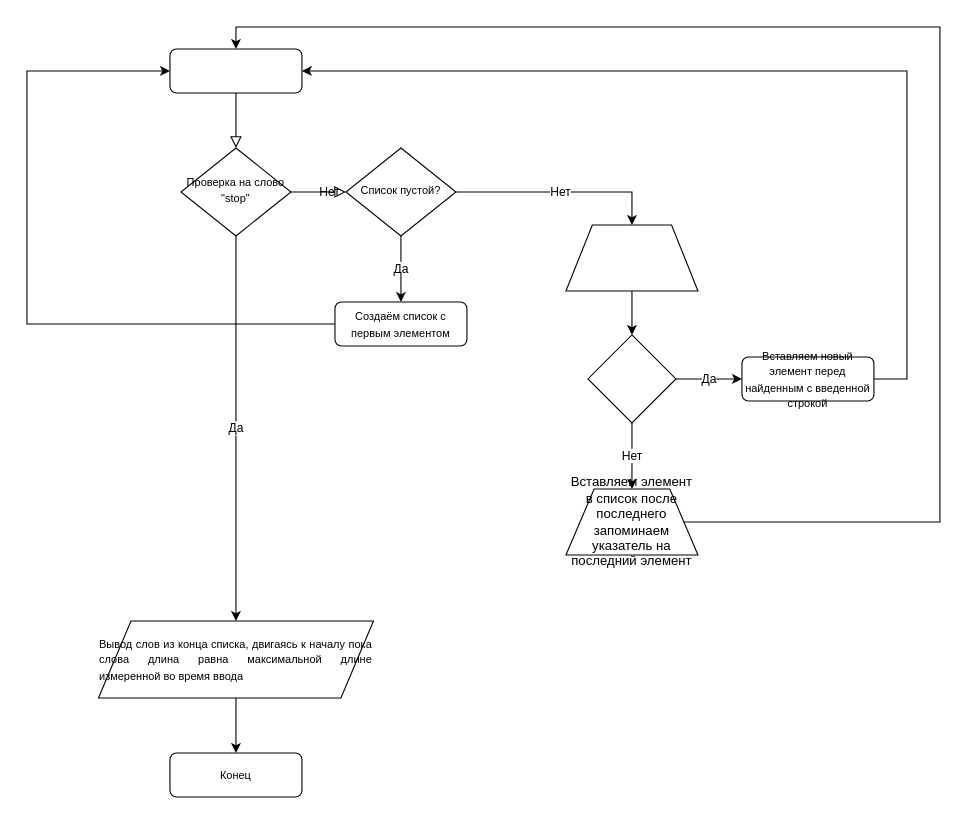
Some shapes in this 968 by 816 pixel diagram are drawn without their labels. The shapes that lost their labels are listed below. From the top down, each one's box as (x1, y1, x2, y2) in pixels, then its label:
(169, 48, 302, 93): Ввод строки
(565, 224, 698, 291): Перебираем элементы списка от первого, ищем строку длиннее введенной
(587, 334, 676, 423): Нашли строку длиннее
